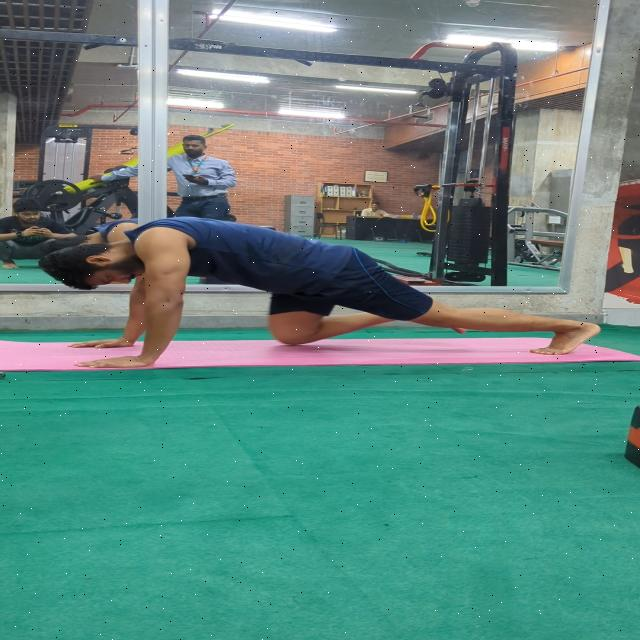Normal_MountainClimbers: (40, 197, 622, 371)
